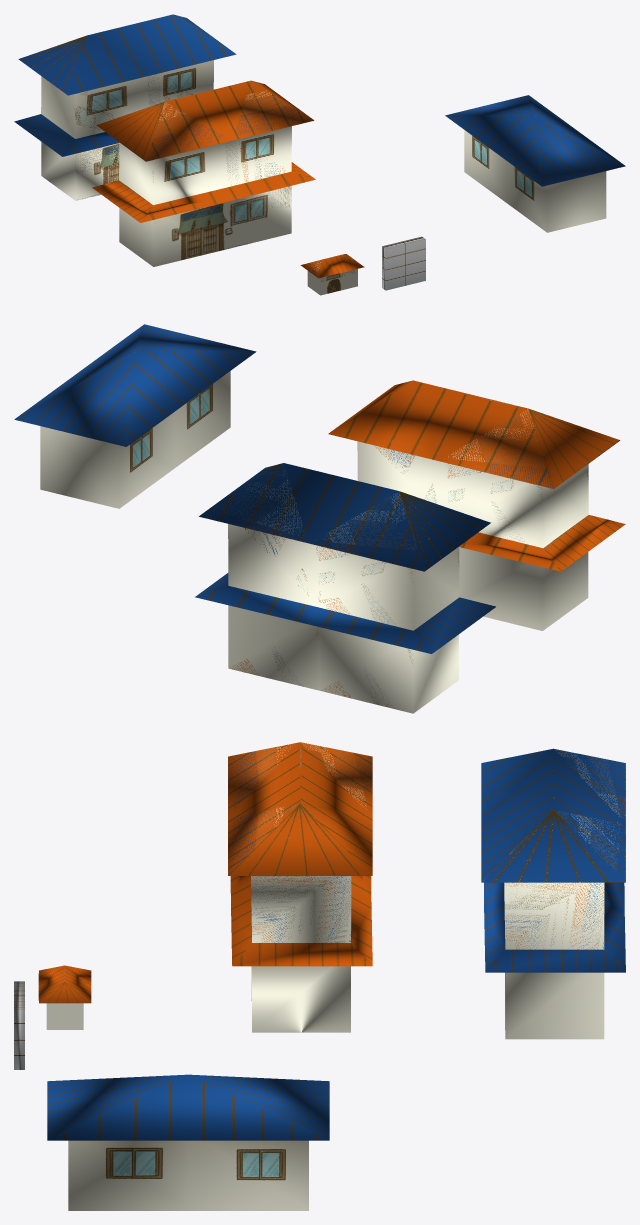
File: inu_outi.fbx
The picture shows the model from 3 angles, top to bottom: view 1: azimuth 30°, elevation 25°; view 2: azimuth 150°, elevation 25°; view 3: azimuth 270°, elevation 25°; orthographic projection. The views are drawn at different scales.
Visible parts, largest first — view 1: pasted__polySurface5, polySurface5, pasted__polySurface2, pCube3, pasted__polySurface4; view 2: polySurface5, pasted__polySurface5, pasted__polySurface2; view 3: polySurface5, pasted__polySurface5, pasted__polySurface2, pasted__polySurface4, pCube3.
Part boxes in pixels (left/top/right/bottom): pasted__polySurface5: left=92, top=80, right=315, bottom=266; polySurface5: left=14, top=14, right=236, bottom=200; pasted__polySurface2: left=445, top=95, right=625, bottom=232; pCube3: left=382, top=236, right=425, bottom=290; pasted__polySurface4: left=300, top=254, right=364, bottom=295; polySurface5: left=195, top=463, right=495, bottom=713; pasted__polySurface5: left=328, top=380, right=625, bottom=630; pasted__polySurface2: left=14, top=324, right=256, bottom=508; polySurface5: left=481, top=748, right=625, bottom=1039; pasted__polySurface5: left=228, top=742, right=372, bottom=1032; pasted__polySurface2: left=47, top=1074, right=329, bottom=1210; pasted__polySurface4: left=38, top=965, right=91, bottom=1029; pCube3: left=14, top=981, right=24, bottom=1069.
Bounding box in the file's own units: 10.65 × 3.53 × 9.21.
